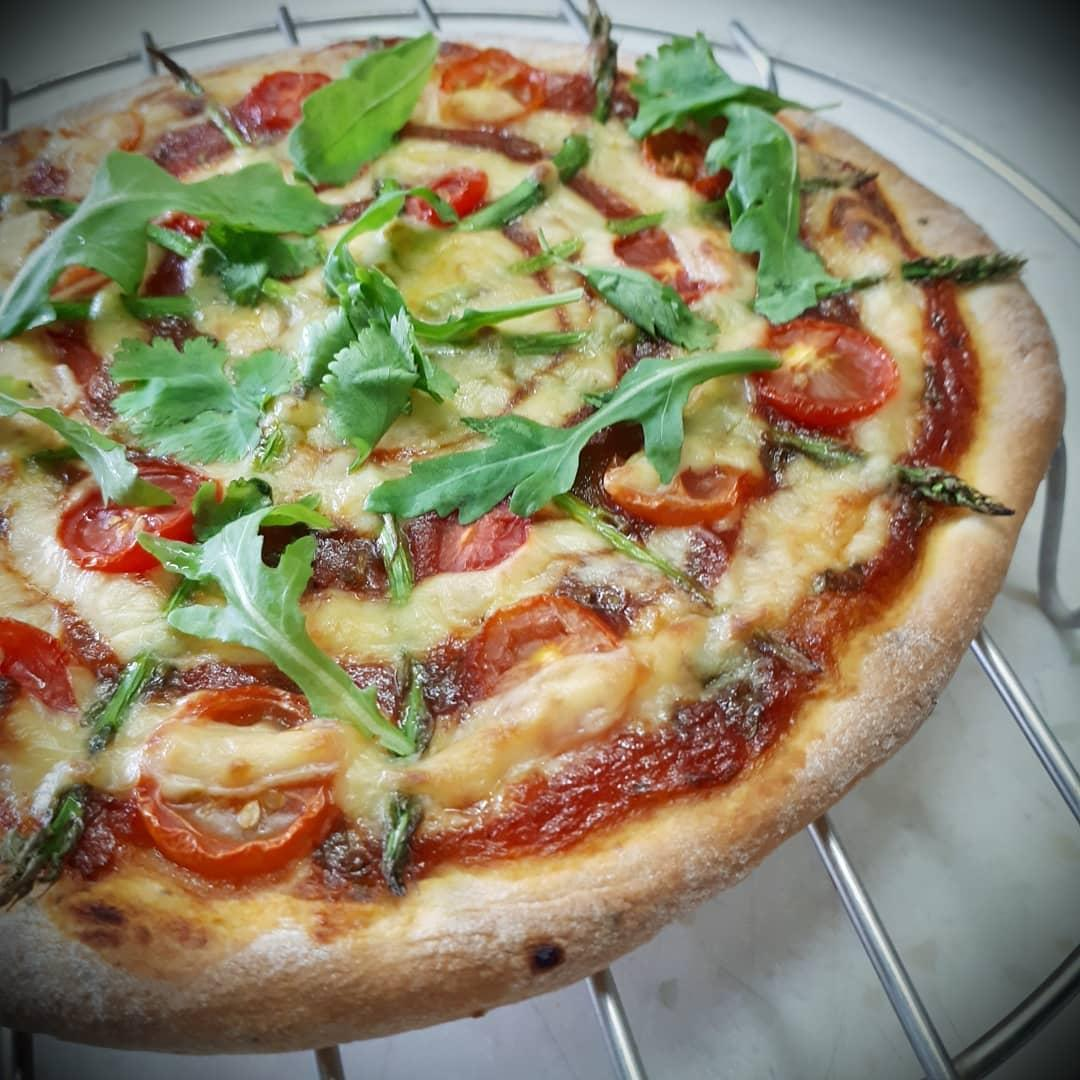Arugula: (320, 231, 577, 435), (16, 168, 311, 319), (731, 63, 848, 304), (93, 338, 287, 449), (380, 449, 579, 527), (623, 48, 795, 126), (582, 260, 722, 352), (591, 364, 741, 435), (235, 479, 271, 574)
Pizza: (0, 37, 1065, 1080)
Tomatoes: (136, 688, 342, 884), (53, 456, 220, 570), (748, 316, 900, 424), (474, 599, 619, 692), (598, 450, 757, 523), (0, 615, 80, 722), (440, 49, 545, 128), (640, 132, 730, 200), (240, 70, 333, 133), (408, 165, 487, 224)
